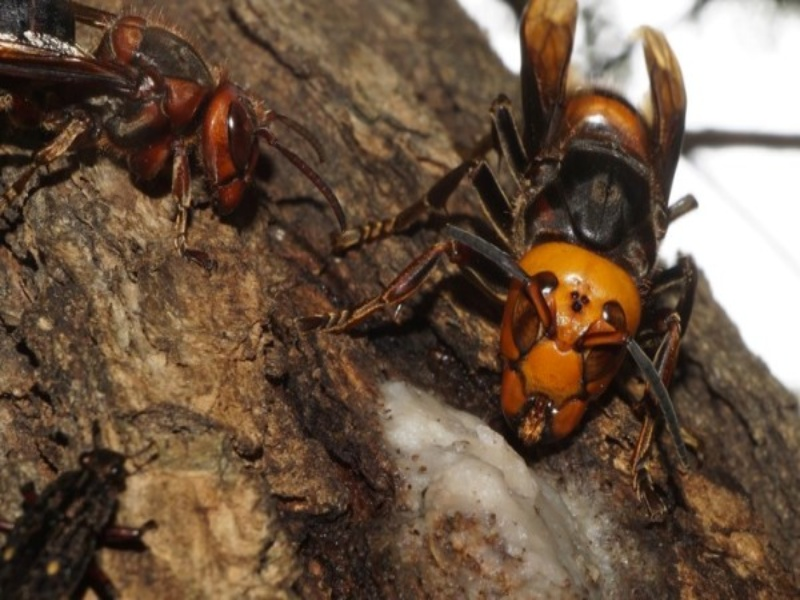asian_giant_hornet: (321, 2, 693, 520), (1, 3, 353, 327)
